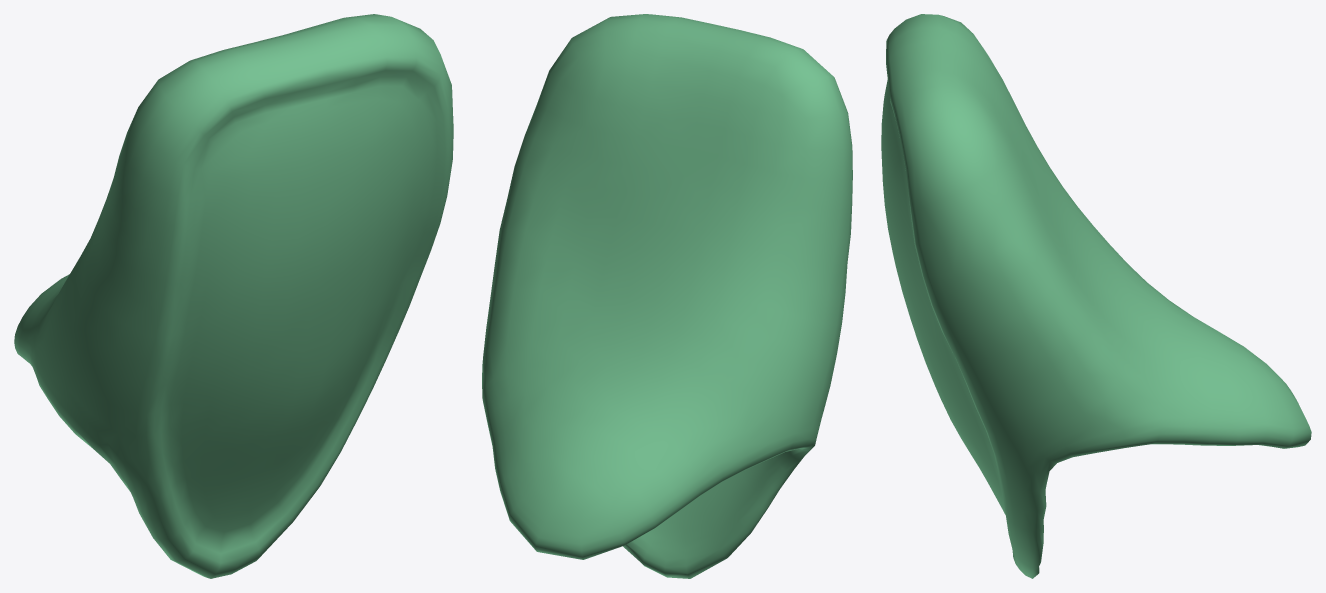
File: BR1_Enamel_Prongs.001 3.glb
The picture shows the model from 3 angles, left to right: view 1: azimuth 30°, elevation 25°; view 2: azimuth 150°, elevation 25°; view 3: azimuth 270°, elevation 25°; orthographic projection. The views are drawn at different scales.
Parts seen in each view (by area): view 1: BR1_Enamel_Prongs.001; view 2: BR1_Enamel_Prongs.001; view 3: BR1_Enamel_Prongs.001.
Part boxes in pixels (x1=…): BR1_Enamel_Prongs.001: x1=14, y1=14, x2=453, y2=578; BR1_Enamel_Prongs.001: x1=482, y1=14, x2=852, y2=578; BR1_Enamel_Prongs.001: x1=881, y1=14, x2=1311, y2=578.
Size of the model in its own units: 0.6475 by 1.01 by 0.7481.
